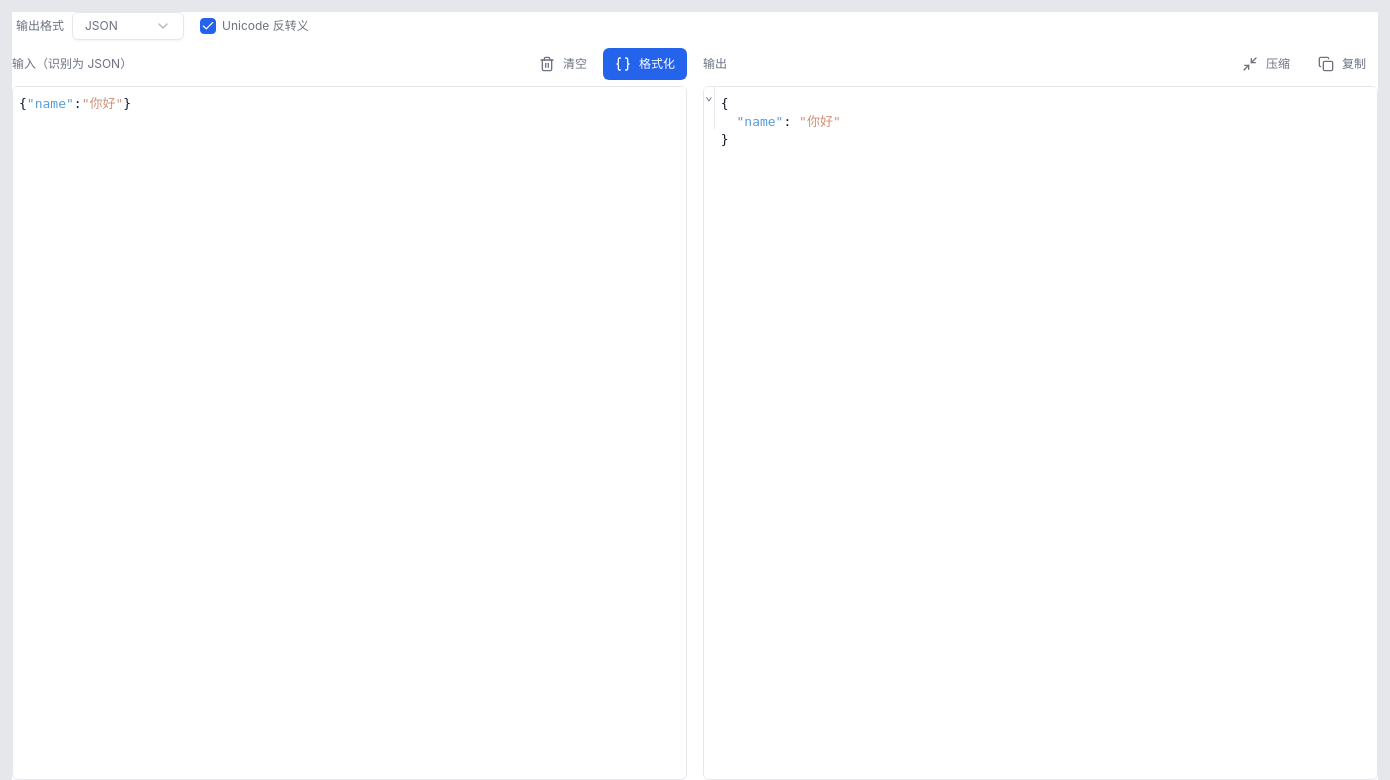
Scenario: DataFormatter › 取消勾选 Unicode 反转义 → JSON 输出 escape 非 ASCII 为 \uXXXX
Click the checkbox.
click(208, 26)  # box [200,18,216,34]
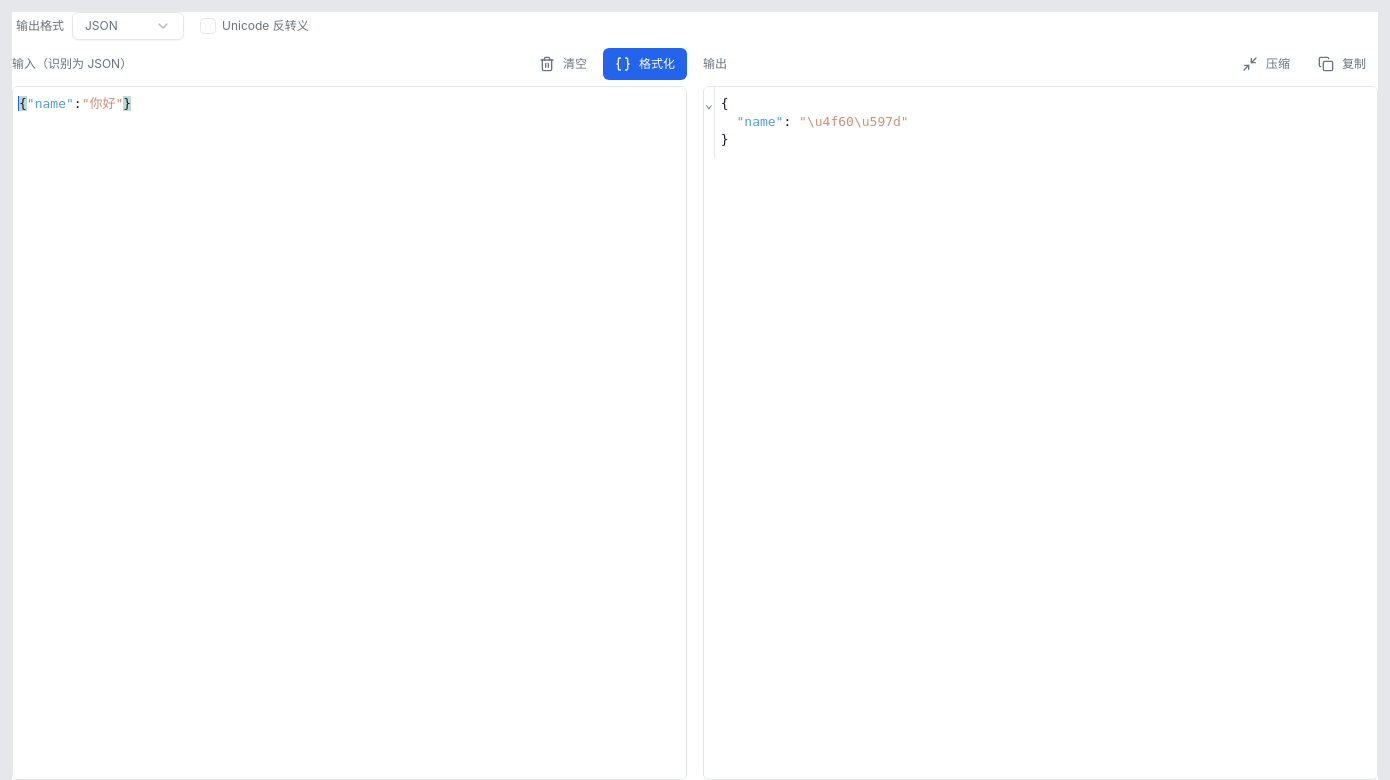
expect the field with class "cm-content" shows "\\u4f60": met, box [799,114,909,129]
expect the element with class "cm-content" no longer shows "你好": met
